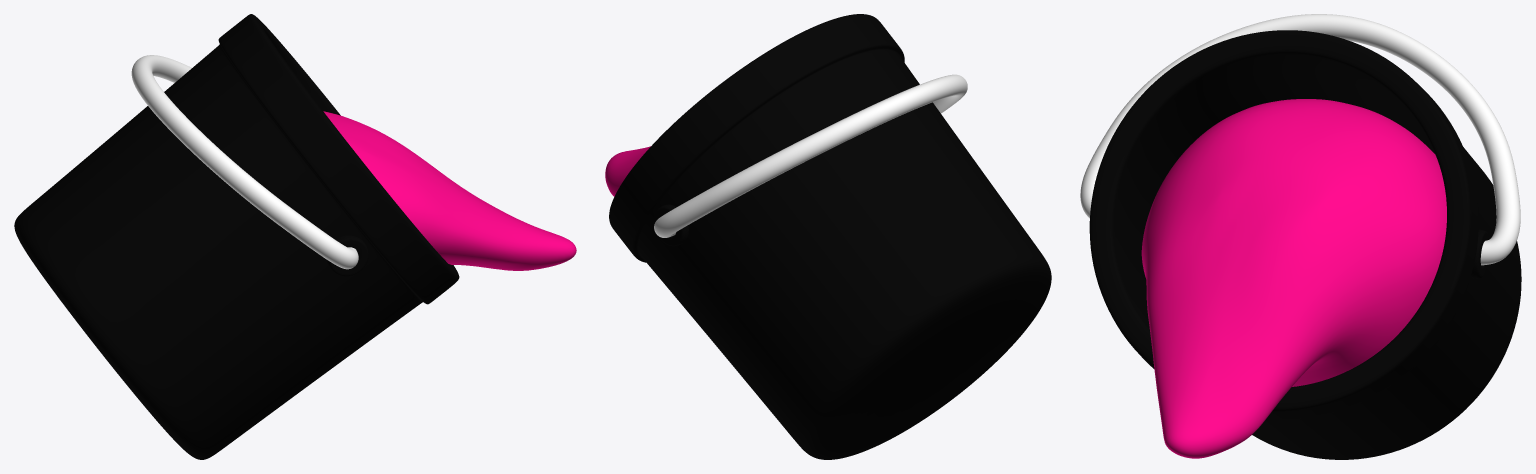
Rendered from bucket.glb.
The picture shows the model from 3 angles, left to right: view 1: azimuth 30°, elevation 25°; view 2: azimuth 150°, elevation 25°; view 3: azimuth 270°, elevation 25°; orthographic projection. The views are drawn at different scales.
Visible parts, largest first — view 1: Cylinder.017; view 2: Cylinder.017; view 3: Cylinder.017.
Part boxes in pixels (x1=…): Cylinder.017: x1=14, y1=14, x2=576, y2=459; Cylinder.017: x1=605, y1=14, x2=1051, y2=459; Cylinder.017: x1=1080, y1=14, x2=1521, y2=459.
Bounding box in the file's own units: 1.94 × 1.57 × 1.36.
